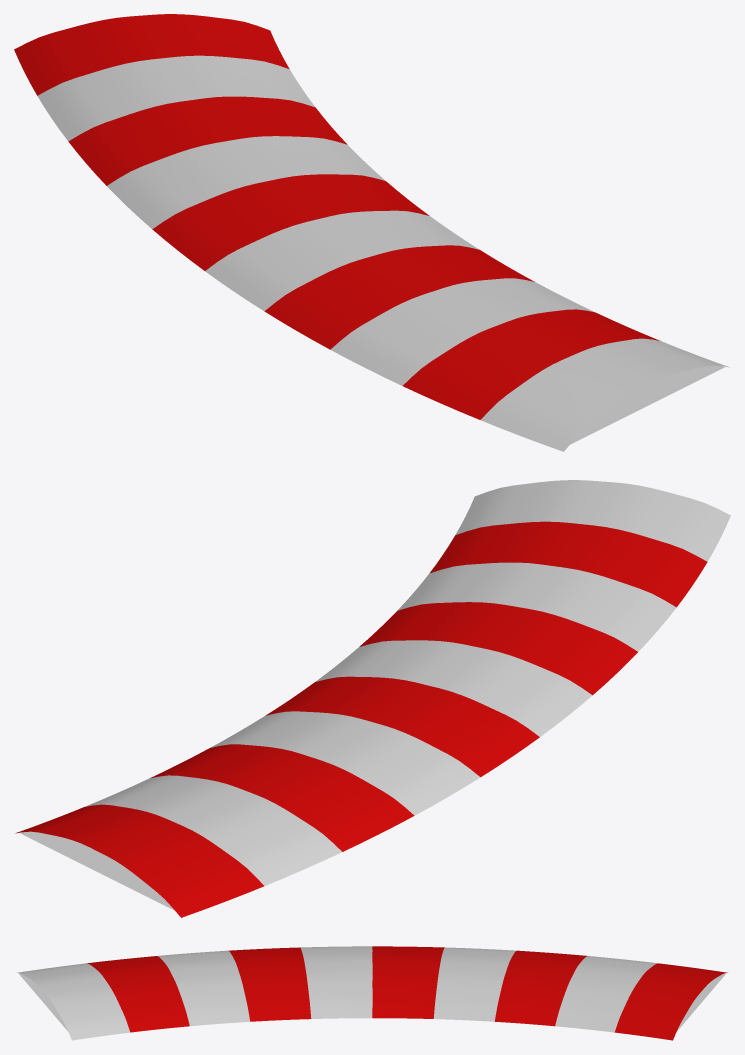
Rendered from right_curb_small.dae.
3 views of the same model, one above another, from view 1: azimuth 30°, elevation 25°; view 2: azimuth 150°, elevation 25°; view 3: azimuth 270°, elevation 25° (orthographic). The views are drawn at different scales.
Visible parts, largest first — view 1: pPlane1, pPlane4, pPlane2; view 2: pPlane4, pPlane1, pPlane3; view 3: pPlane1, pPlane4, pPlane2, pPlane3.
Boxes of the visible parts, x1,y1,x2,y2 form: pPlane1: (205, 210, 729, 451); pPlane4: (14, 14, 429, 270); pPlane2: (570, 365, 724, 444); pPlane4: (15, 676, 539, 917); pPlane1: (315, 480, 730, 736); pPlane3: (20, 831, 174, 910); pPlane1: (17, 946, 372, 1040); pPlane4: (372, 946, 727, 1040); pPlane2: (18, 973, 68, 1031); pPlane3: (676, 973, 726, 1031).
Bounding box in the file's own units: 1.32 × 0.104 × 4.24.
